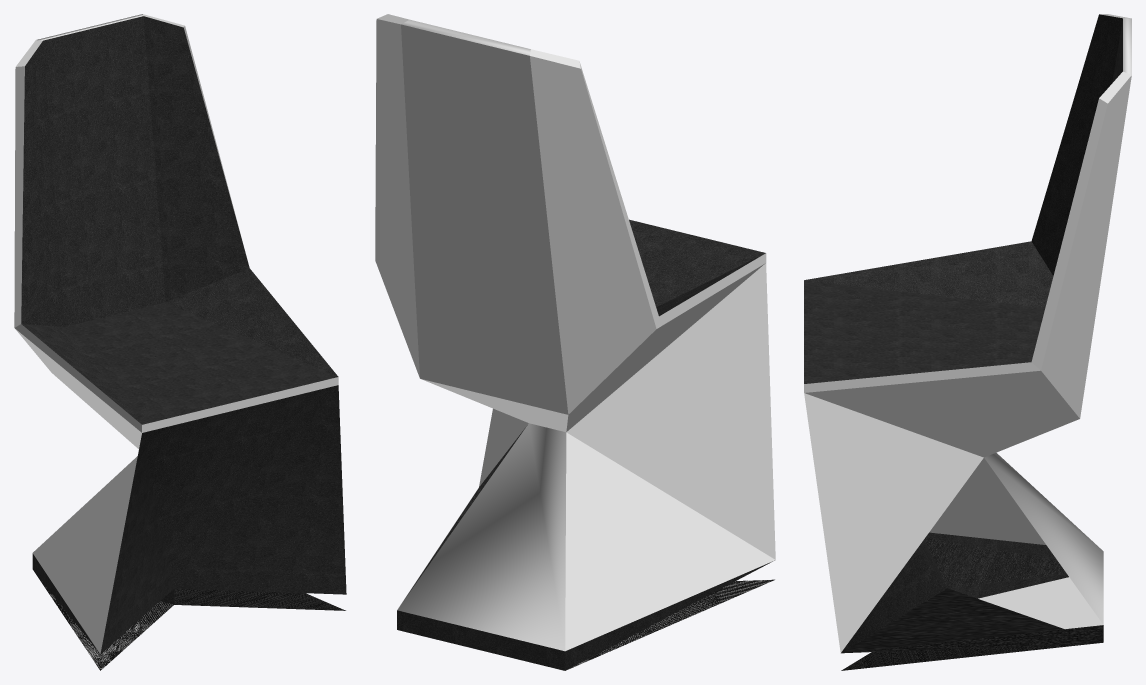
The model's file is chair1.glb.
The picture shows the model from 3 angles, left to right: view 1: azimuth 30°, elevation 25°; view 2: azimuth 150°, elevation 25°; view 3: azimuth 270°, elevation 25°; orthographic projection. The views are drawn at different scales.
Visible parts, largest first — view 1: hehe; view 2: hehe; view 3: hehe.
Part boxes in pixels (left/top/right/bottom): hehe: left=14, top=14, right=346, bottom=670; hehe: left=375, top=14, right=775, bottom=670; hehe: left=804, top=14, right=1131, bottom=670.
Bounding box in the file's own units: 3.11 × 6.25 × 3.31.
Materials: 2 (1 with a texture image).
